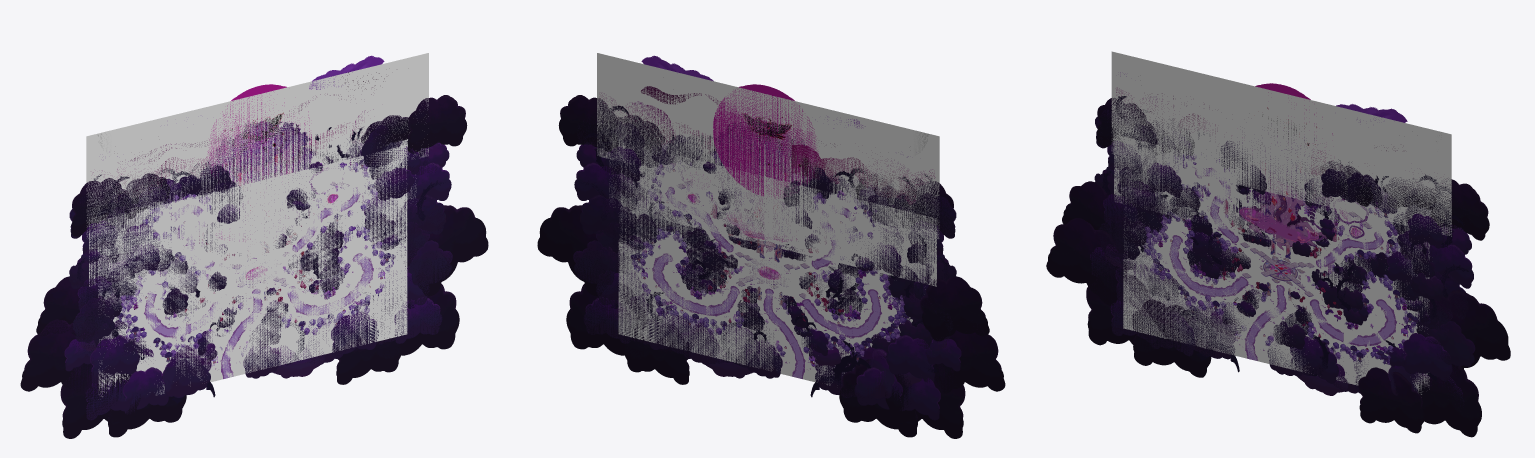
The model's file is map_ep06_back_prefab.fbx.
The picture shows the model from 3 angles, left to right: view 1: azimuth 30°, elevation 25°; view 2: azimuth 150°, elevation 25°; view 3: azimuth 330°, elevation 25°; orthographic projection.
Parts seen in each view (by area): view 1: MeshRenderer_Layer_-100, MeshRenderer_Layer_-96, MeshRenderer_Layer_100, MeshRenderer_Layer_101, MeshRenderer_Layer_-93, MeshRenderer_Layer_-92, MeshRenderer_Layer_-97, MeshRenderer_Layer_-95; view 2: MeshRenderer_Layer_-100, MeshRenderer_Layer_100, MeshRenderer_Layer_101, MeshRenderer_Layer_-93, MeshRenderer_Layer_-96, MeshRenderer_Layer_-97, MeshRenderer_Layer_-92, MeshRenderer_Layer_-95, MeshRenderer_Layer_-99, MeshRenderer_Layer_-94; view 3: MeshRenderer_Layer_-100, MeshRenderer_Layer_101, MeshRenderer_Layer_-93, MeshRenderer_Layer_100, MeshRenderer_Layer_-96, MeshRenderer_Layer_-97, MeshRenderer_Layer_-92, MeshRenderer_Layer_-95, MeshRenderer_Layer_-99.
Part boxes in pixels (bbox=[...]): MeshRenderer_Layer_-100: bbox=[86, 53, 428, 396]; MeshRenderer_Layer_-96: bbox=[69, 95, 467, 240]; MeshRenderer_Layer_100: bbox=[64, 221, 452, 420]; MeshRenderer_Layer_101: bbox=[20, 180, 488, 438]; MeshRenderer_Layer_-93: bbox=[68, 135, 451, 317]; MeshRenderer_Layer_-92: bbox=[72, 233, 400, 362]; MeshRenderer_Layer_-97: bbox=[144, 182, 380, 378]; MeshRenderer_Layer_-95: bbox=[199, 200, 319, 261]; MeshRenderer_Layer_-100: bbox=[597, 53, 939, 385]; MeshRenderer_Layer_100: bbox=[573, 222, 961, 420]; MeshRenderer_Layer_101: bbox=[537, 180, 1005, 438]; MeshRenderer_Layer_-93: bbox=[574, 129, 956, 316]; MeshRenderer_Layer_-96: bbox=[558, 95, 956, 252]; MeshRenderer_Layer_-97: bbox=[645, 180, 887, 378]; MeshRenderer_Layer_-92: bbox=[626, 232, 953, 362]; MeshRenderer_Layer_-95: bbox=[710, 202, 826, 262]; MeshRenderer_Layer_-99: bbox=[686, 172, 796, 280]; MeshRenderer_Layer_-94: bbox=[734, 113, 800, 166]; MeshRenderer_Layer_-100: bbox=[1111, 51, 1451, 394]; MeshRenderer_Layer_101: bbox=[1046, 181, 1510, 437]; MeshRenderer_Layer_-93: bbox=[1094, 133, 1473, 325]; MeshRenderer_Layer_100: bbox=[1090, 244, 1475, 407]; MeshRenderer_Layer_-96: bbox=[1095, 96, 1489, 255]; MeshRenderer_Layer_-97: bbox=[1163, 167, 1403, 360]; MeshRenderer_Layer_-92: bbox=[1098, 215, 1423, 365]; MeshRenderer_Layer_-95: bbox=[1224, 198, 1342, 258]; MeshRenderer_Layer_-99: bbox=[1239, 208, 1361, 276].
Size of the model in its own units: 17887 by 13021 by 0.
8 materials, 8 textured.
